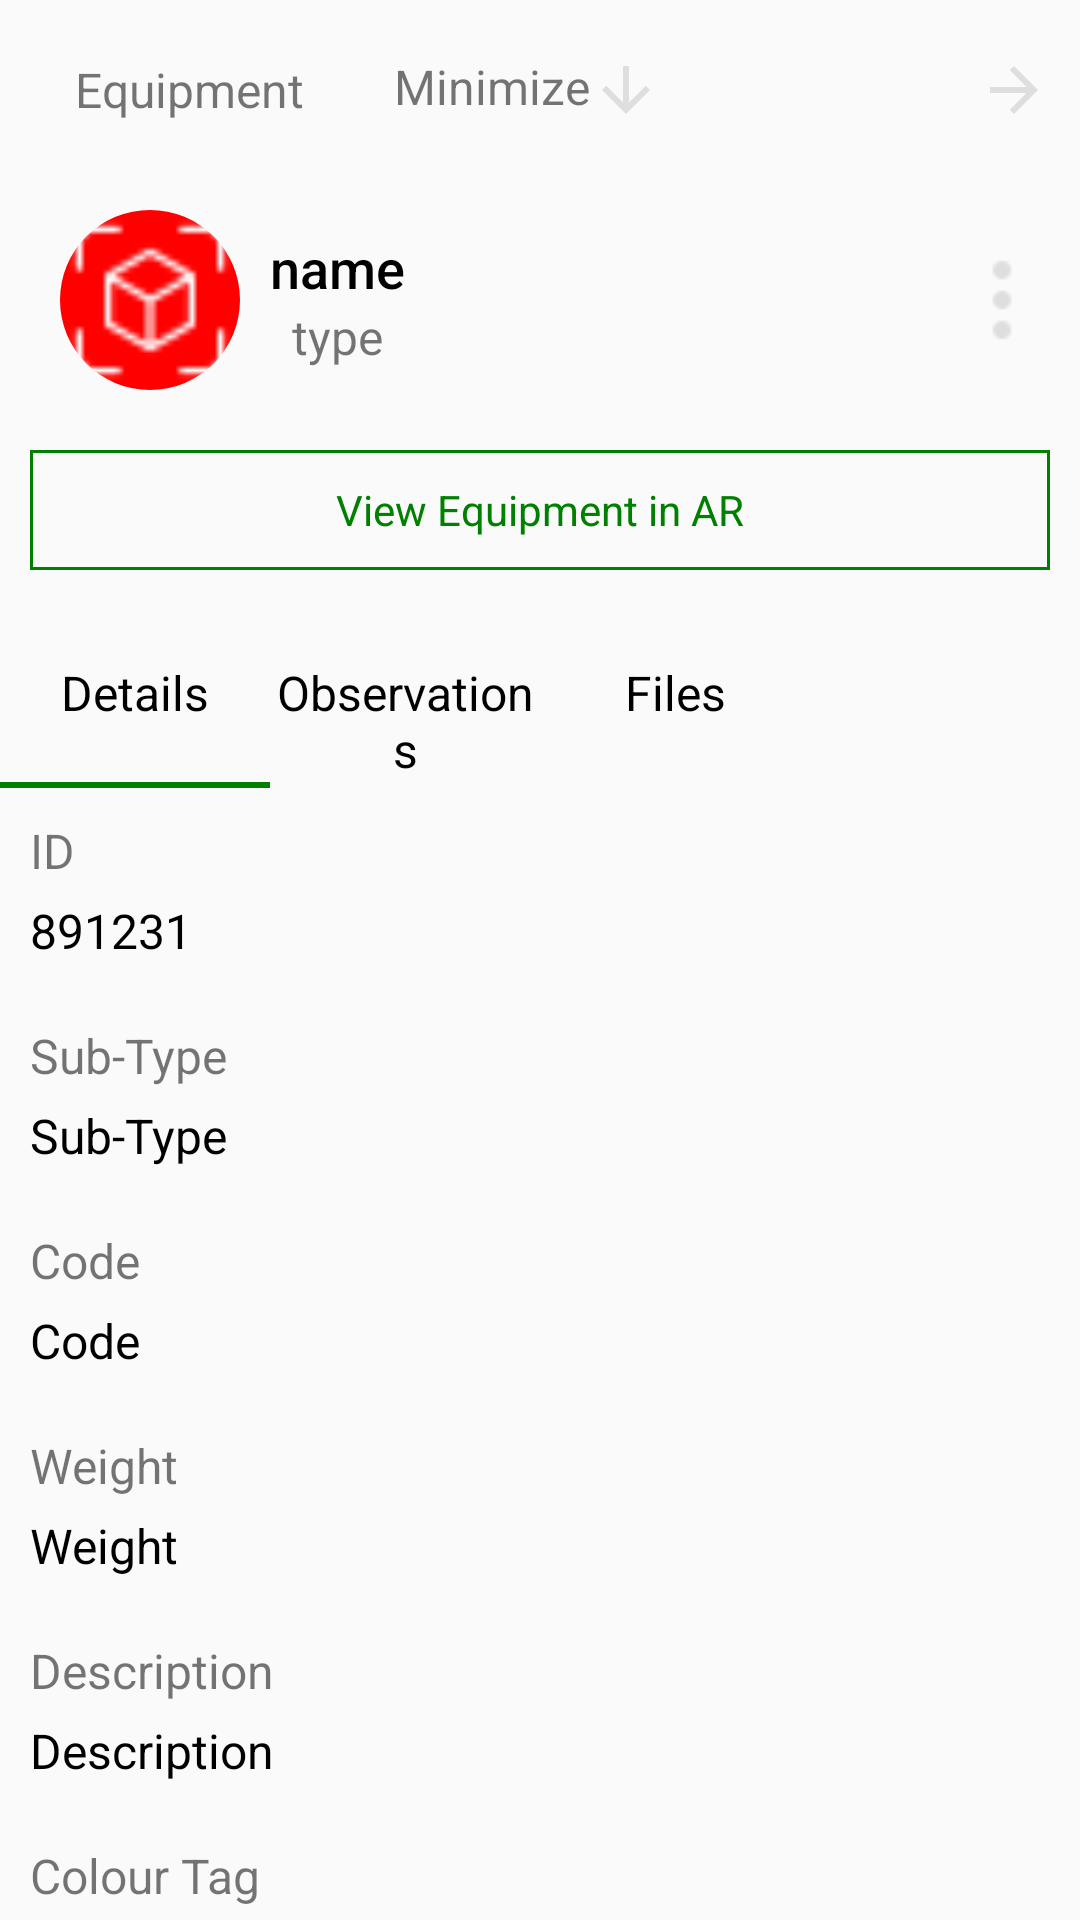

Icon click points for this 1080 × 1920 phone screenshot, format [x,y]:
arrow down: [626,89]
arrow right: [1013,90]
dots: [1002,300]
